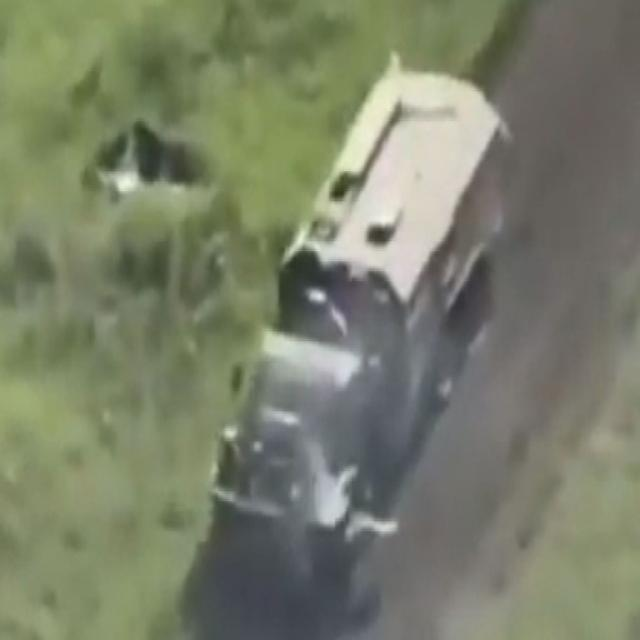TRUCK: (204, 42, 511, 596)
